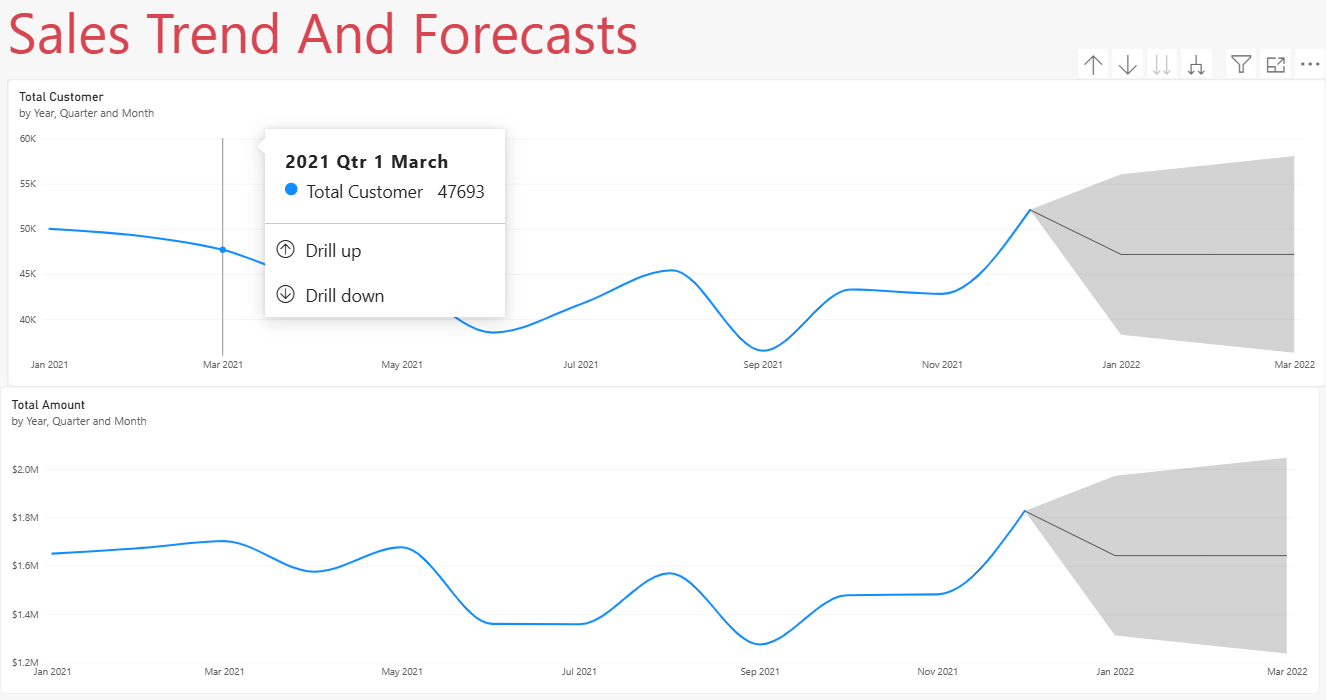

The page's visual inventory and layout, read from the dashboard file:
{"tool":"powerbi","page":{"name":"Page 2","canvas":[1920,1080],"ordinal":1},"visuals":[{"type":"textbox","box":[10.3,0,1910.1,125.6],"z":0},{"type":"lineChart","fields":{"Category":["sales.Date.Variation.Date Hierarchy.Year","sales.Date.Variation.Date Hierarchy.Quarter","sales.Date.Variation.Date Hierarchy.Month","sales.Date.Variation.Date Hierarchy.Day"],"Y":["sales.Total Customer"]},"box":[10.3,125.6,1910.1,444.6],"z":1},{"type":"lineChart","fields":{"Category":["sales.Date.Variation.Date Hierarchy.Year","sales.Date.Variation.Date Hierarchy.Quarter","sales.Date.Variation.Date Hierarchy.Month","sales.Date.Variation.Date Hierarchy.Day"],"Y":["sales.Total Amount"]},"box":[0,570,1910.1,444.6],"z":2}]}

Visuals, with their boxes on the page's 1920x1080 design canvas (x1, y1, x2, y2). These are canvas units, not pixel positions in the 1326x700 screenshot, which may show the page scaled, cropped or inside an application window:
textbox: bbox=[10, 0, 1920, 126]
lineChart - sales.Date.Variation.Date Hierarchy.Year x sales.Date.Variation.Date Hierarchy.Quarter: bbox=[10, 126, 1920, 570]
lineChart - sales.Date.Variation.Date Hierarchy.Year x sales.Date.Variation.Date Hierarchy.Quarter: bbox=[0, 570, 1910, 1015]
